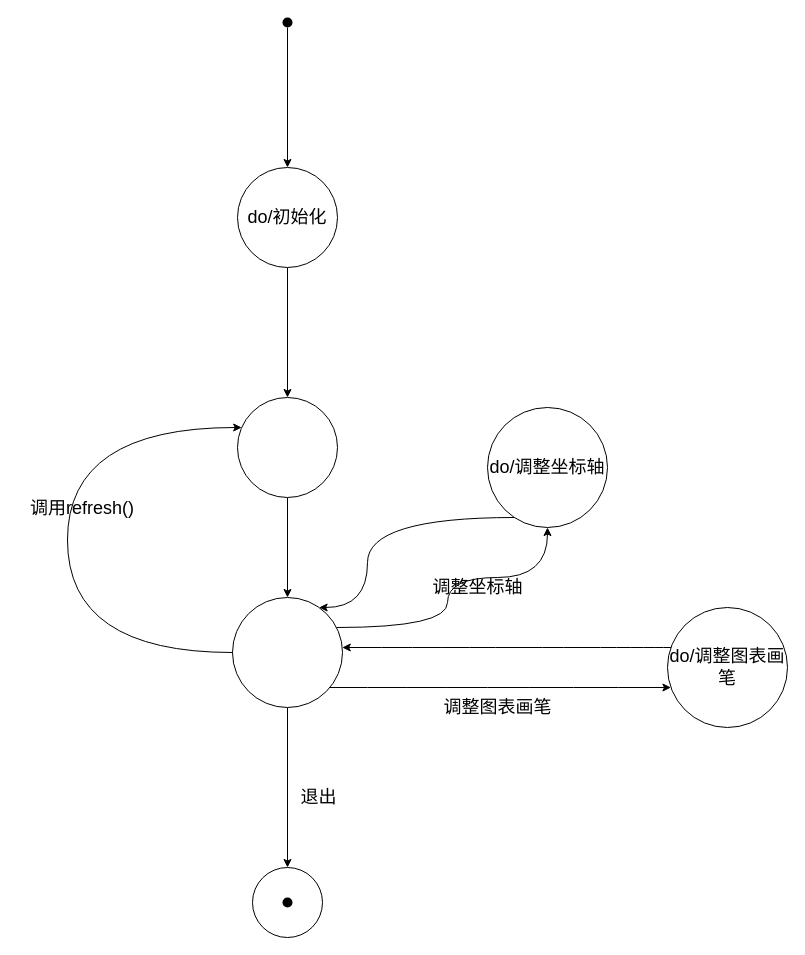
Some shapes in this 805 by 955 pixel diagram are drawn without their labels. The centre of each missing label's shape, as x and y in pixels:
"do/刷新" goes at point (287, 447).
"do/显示并等待" goes at point (287, 652).
